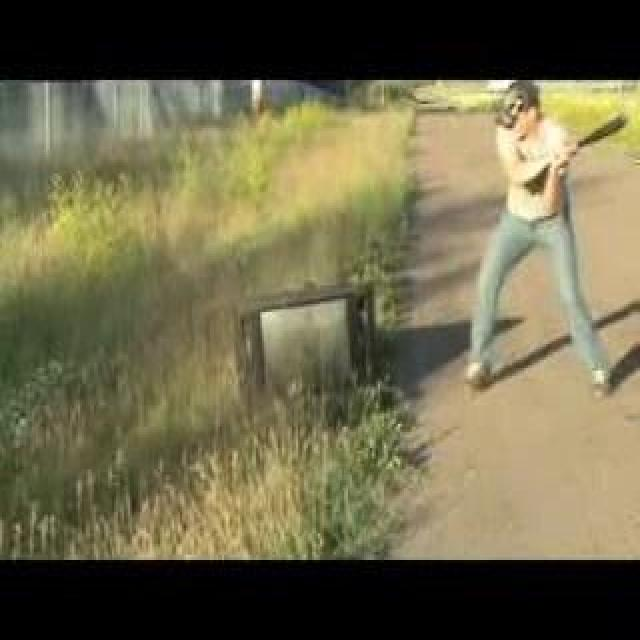fight: (430, 81, 640, 396)
